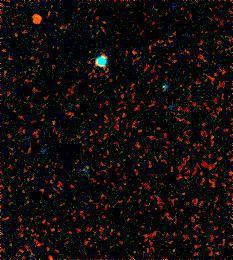star: (25, 4, 55, 34)
